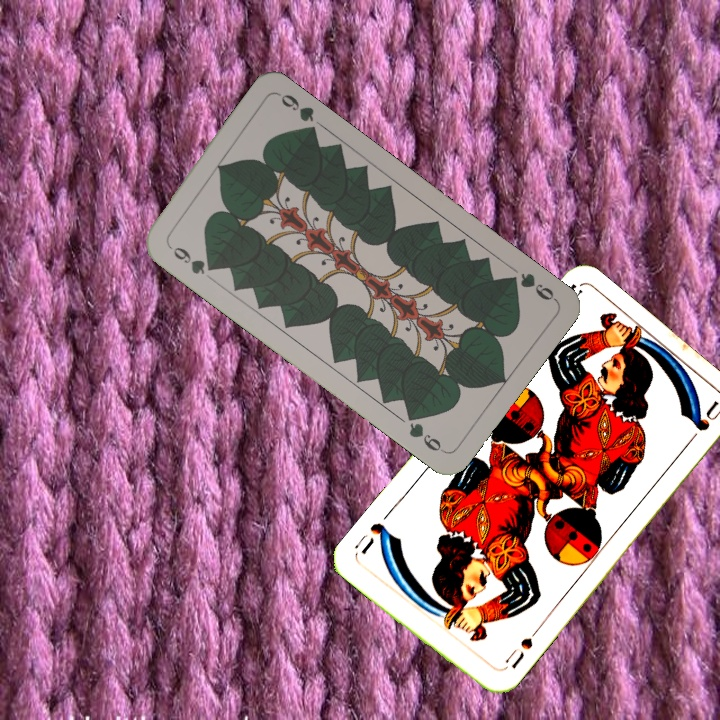G9: (163, 239, 219, 278), (501, 268, 559, 303)
SU: (493, 633, 536, 674)
